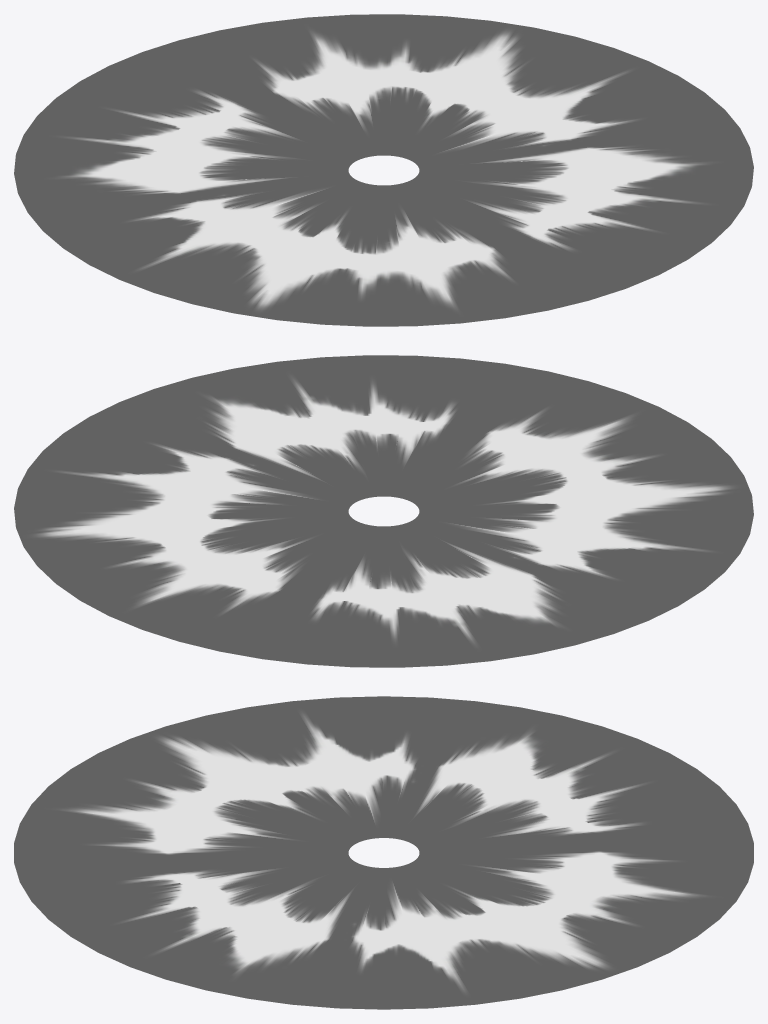
The model's file is eff_rig002_mesh.fbx.
The picture shows the model from 3 angles, top to bottom: view 1: azimuth 30°, elevation 25°; view 2: azimuth 150°, elevation 25°; view 3: azimuth 270°, elevation 25°; orthographic projection.
Parts seen in each view (by area): view 1: eff_rig002_mesh; view 2: eff_rig002_mesh; view 3: eff_rig002_mesh.
Boxes of the visible parts, x1=… form: eff_rig002_mesh: x1=14, y1=14, x2=753, y2=326; eff_rig002_mesh: x1=14, y1=355, x2=753, y2=667; eff_rig002_mesh: x1=14, y1=696, x2=753, y2=1009.
Size of the model in its own units: 142 by 0 by 142.
